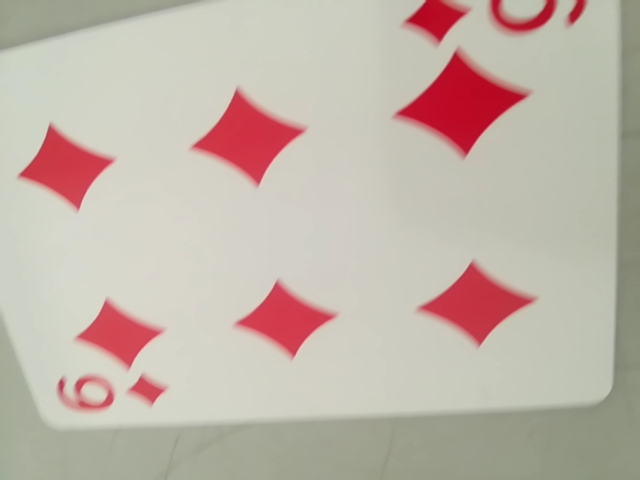fk 6: (402, 0, 594, 55), (51, 363, 171, 425)
